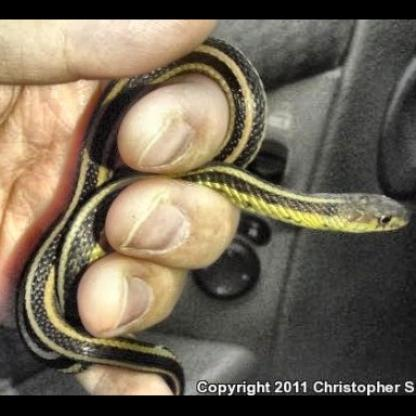Snake: (13, 35, 416, 376)
